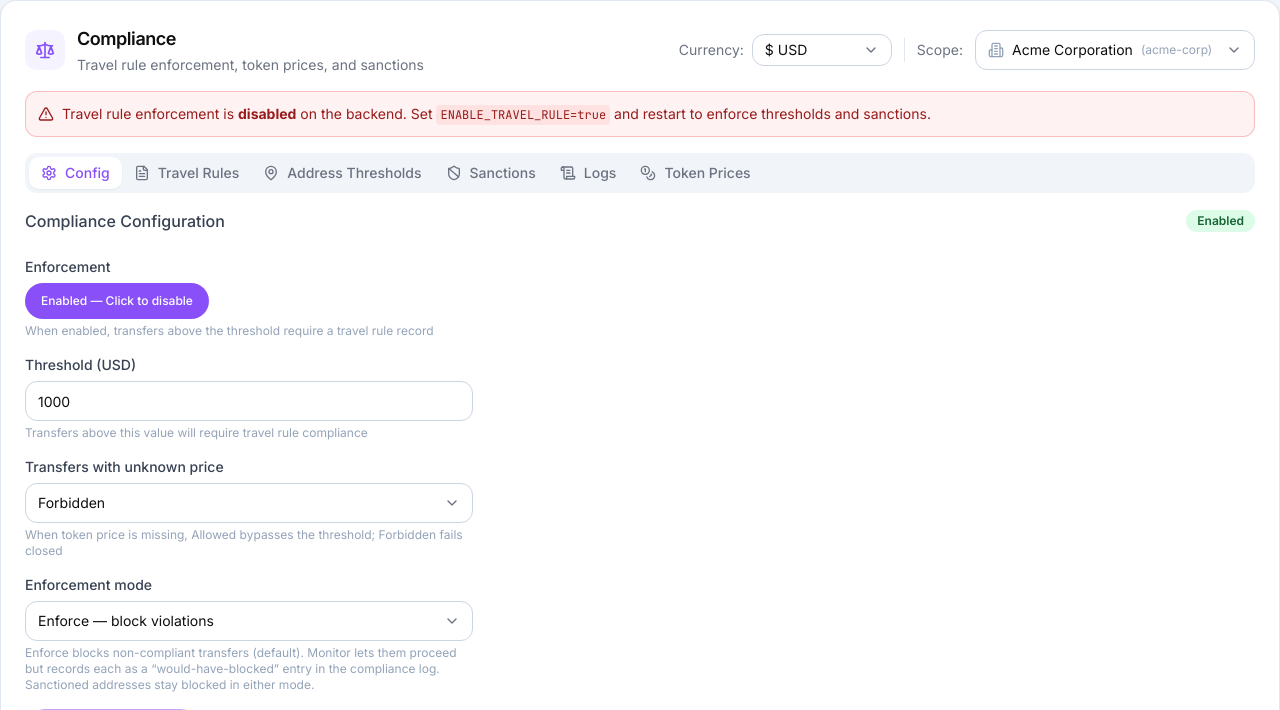
Test: ComplianceManager Integration Tests › Tab Navigation › navigates between tabs
Check: the heading "Compliance Configuration" is shown, box [25, 209, 225, 233]
// Click Token Prices tab
Click the tab "Token Prices".
click(696, 173)  # box [628, 157, 763, 189]
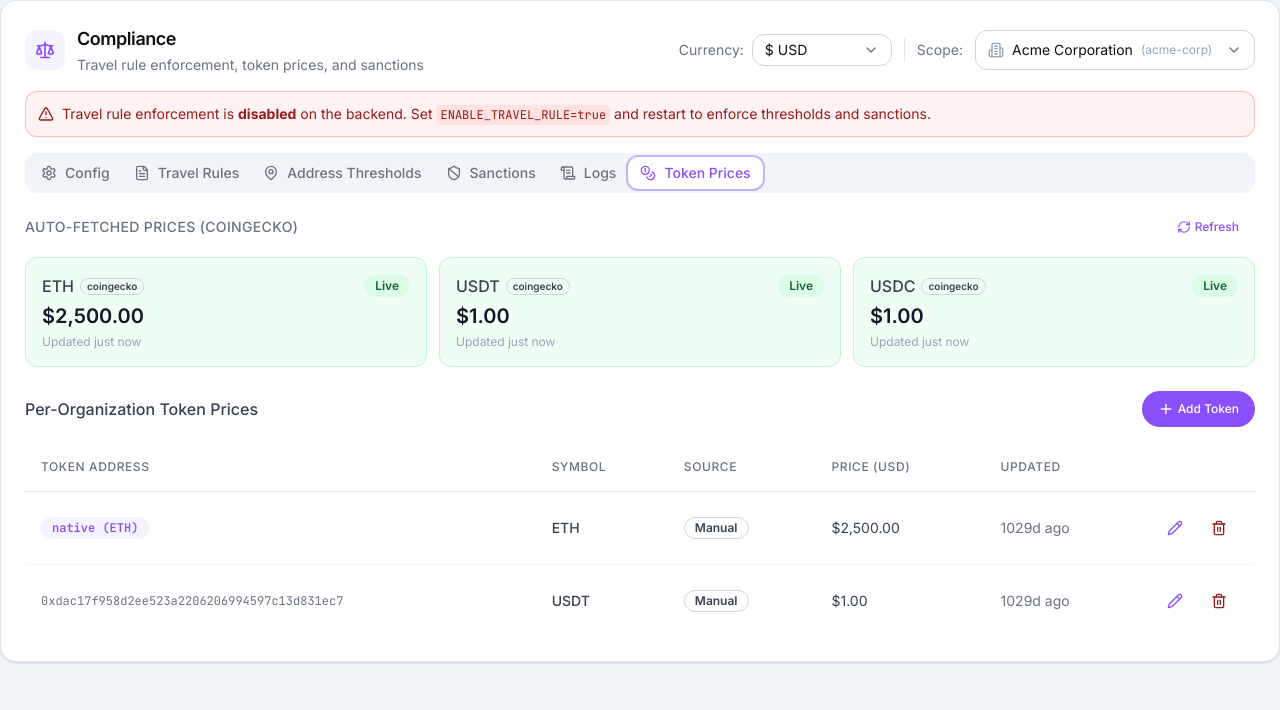
Check: the heading "Compliance Configuration" is gone
Check: the button "Add Token" is shown, box [1142, 391, 1255, 427]
